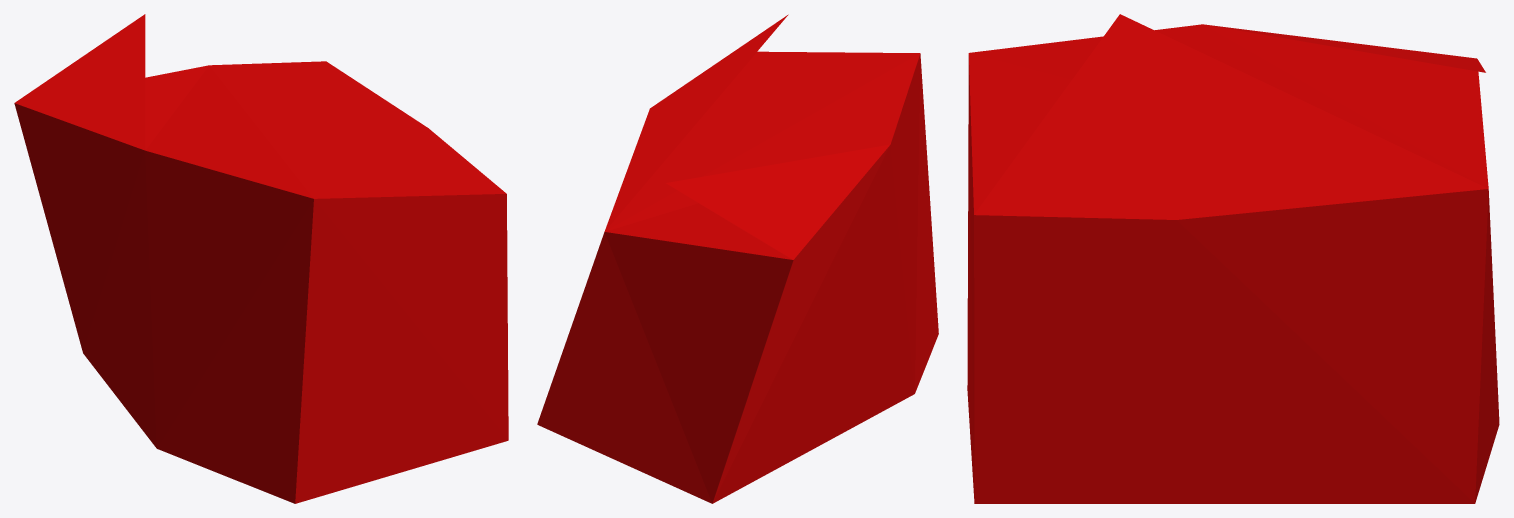
The picture shows the model from 3 angles, left to right: view 1: azimuth 30°, elevation 25°; view 2: azimuth 150°, elevation 25°; view 3: azimuth 270°, elevation 25°; orthographic projection. The views are drawn at different scales.
Parts seen in each view (by area): view 1: Mesh; view 2: Mesh; view 3: Mesh.
Boxes of the visible parts, left/top/right/bottom form: Mesh: left=14, top=14, right=508, bottom=503; Mesh: left=537, top=14, right=938, bottom=503; Mesh: left=967, top=14, right=1499, bottom=503.
Bounding box in the file's own units: 0.612 × 0.8046 × 0.8512.
